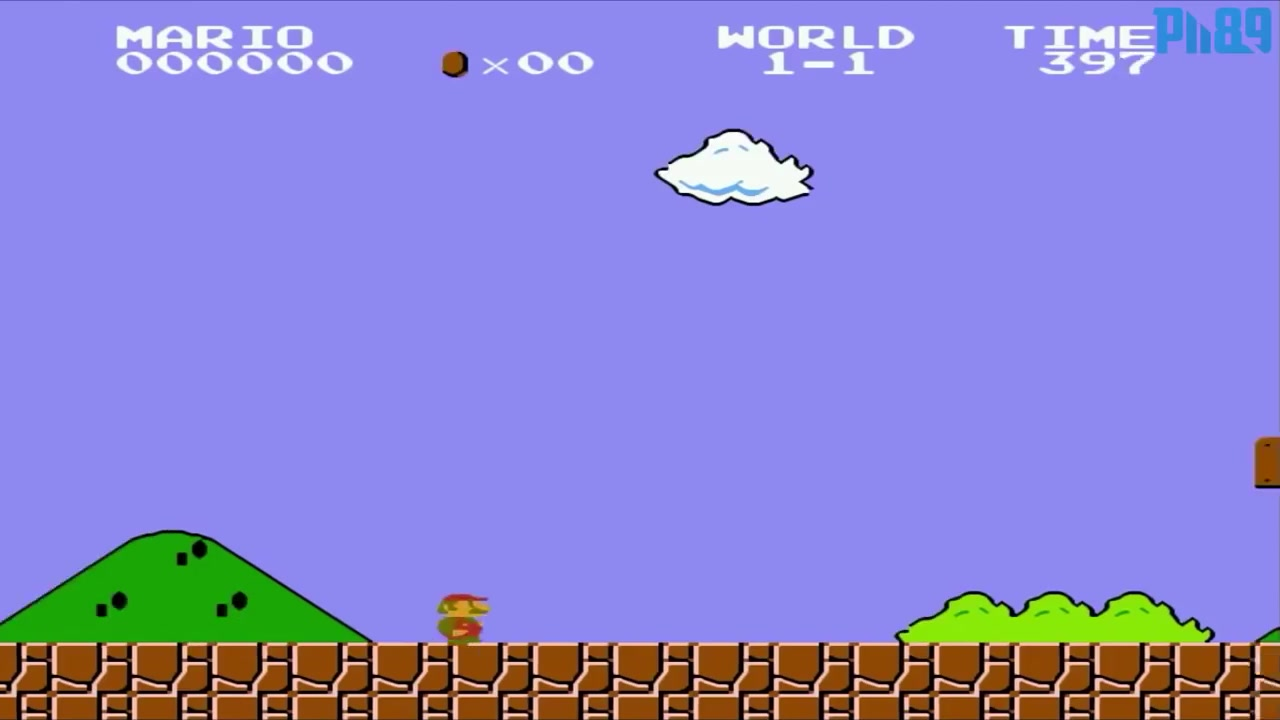mario: (419, 583, 502, 648)
